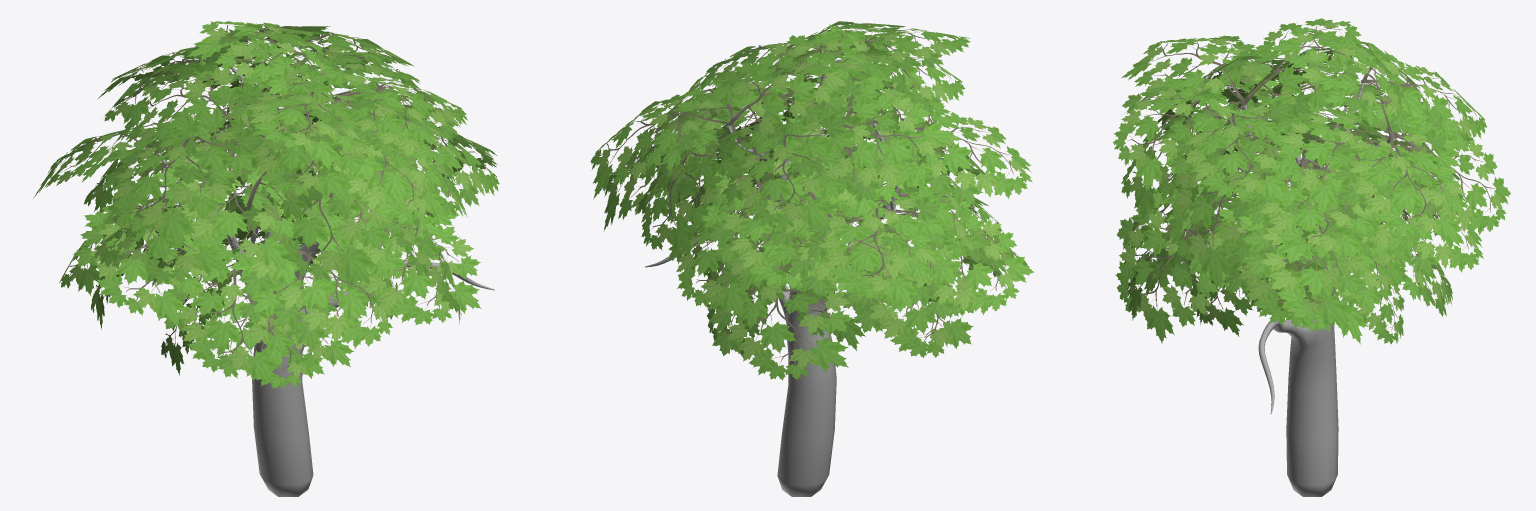
The model's file is Maple_02.fbx.
The picture shows the model from 3 angles, left to right: view 1: azimuth 30°, elevation 25°; view 2: azimuth 150°, elevation 25°; view 3: azimuth 270°, elevation 25°; orthographic projection. The views are drawn at different scales.
Visible parts, largest first — view 1: Leaf, Tree; view 2: Leaf, Tree; view 3: Leaf, Tree.
Boxes of the visible parts, x1,y1,x2,y2 form: Leaf: (33,21,499,388); Tree: (156,66,494,496); Leaf: (590,21,1034,380); Tree: (645,65,899,496); Leaf: (1113,18,1510,344); Tree: (1239,83,1390,496).
Bounding box in the file's own units: 23.72 × 23.8 × 21.39.
